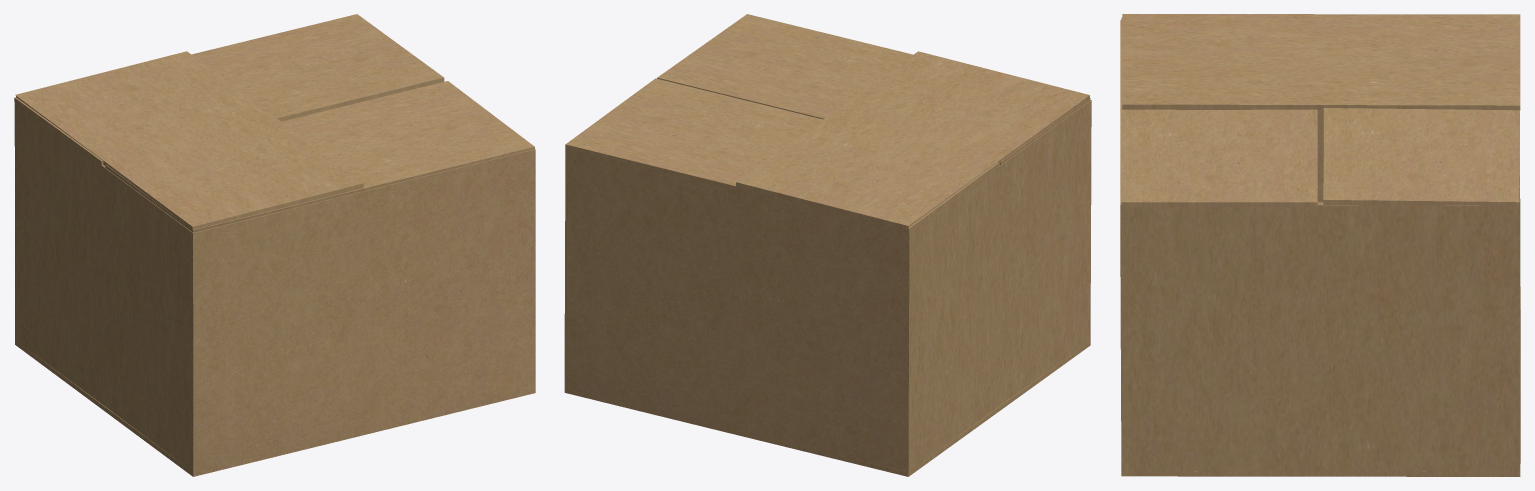
Rendered from Cardbox_closed02.glb.
The picture shows the model from 3 angles, left to right: view 1: azimuth 30°, elevation 25°; view 2: azimuth 150°, elevation 25°; view 3: azimuth 270°, elevation 25°; orthographic projection. The views are drawn at different scales.
Visible parts, largest first — view 1: Cardbox_closed02; view 2: Cardbox_closed02; view 3: Cardbox_closed02.
Boxes of the visible parts, x1=… form: Cardbox_closed02: x1=14, y1=14, x2=535, y2=476; Cardbox_closed02: x1=564, y1=14, x2=1091, y2=476; Cardbox_closed02: x1=1120, y1=14, x2=1520, y2=476.
Size of the model in its own units: 1.58 by 1.11 by 1.44.
Materials: 1 (1 with a texture image).
